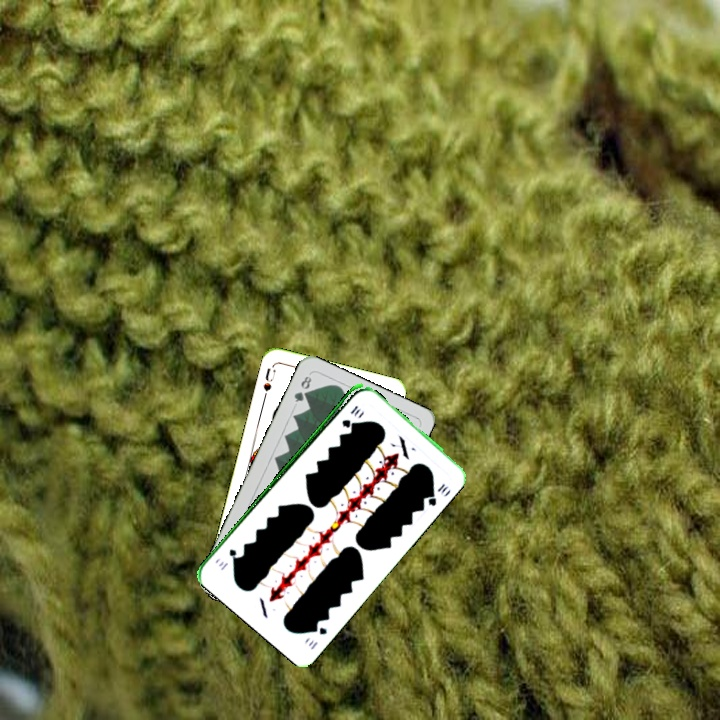G10: (305, 621, 329, 652), (337, 401, 361, 430)
G8: (290, 372, 314, 405)
SU: (259, 361, 278, 401)
